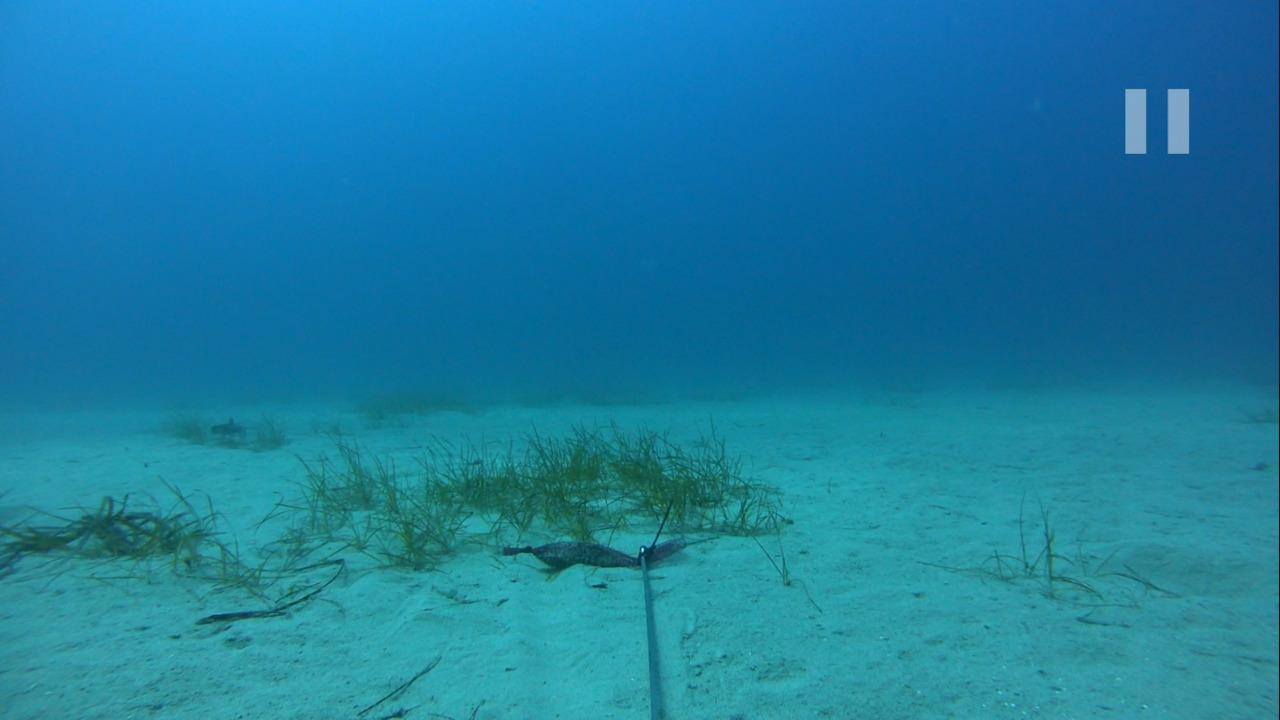dactylopterus: (201, 407, 264, 448)
